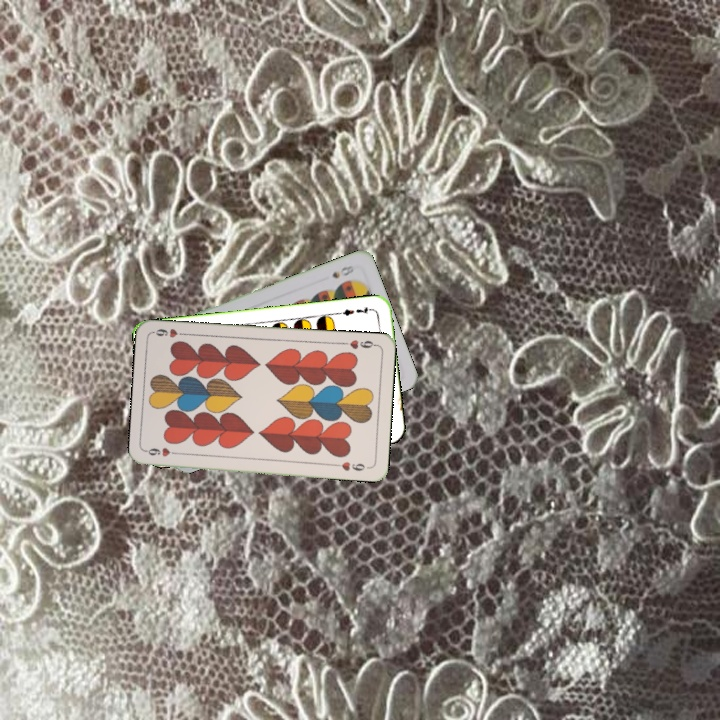E7: (335, 303, 375, 318)
H9: (143, 444, 184, 459), (339, 336, 379, 351)
S8: (328, 261, 356, 281)
